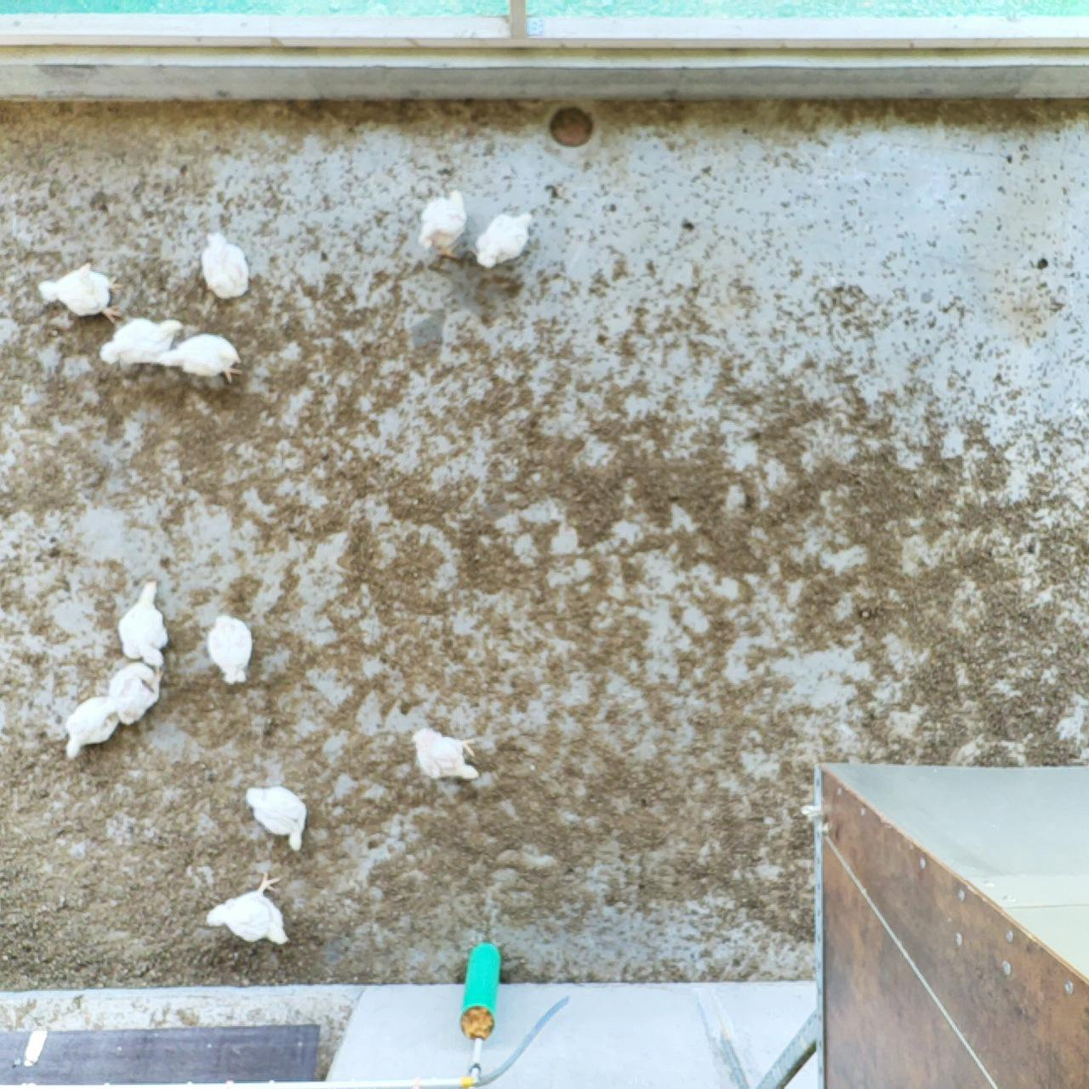chicken: (203, 868, 300, 948), (37, 259, 127, 329), (116, 574, 174, 671), (152, 329, 247, 387), (98, 312, 189, 370), (197, 227, 257, 303), (409, 725, 484, 785), (245, 784, 308, 854), (63, 689, 124, 759), (414, 187, 469, 262), (473, 209, 539, 271), (107, 658, 166, 727), (207, 610, 257, 687)
